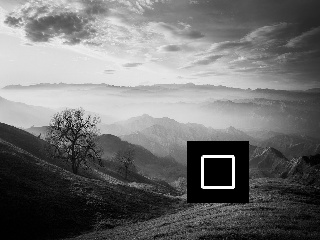square: (187, 141, 249, 203)
